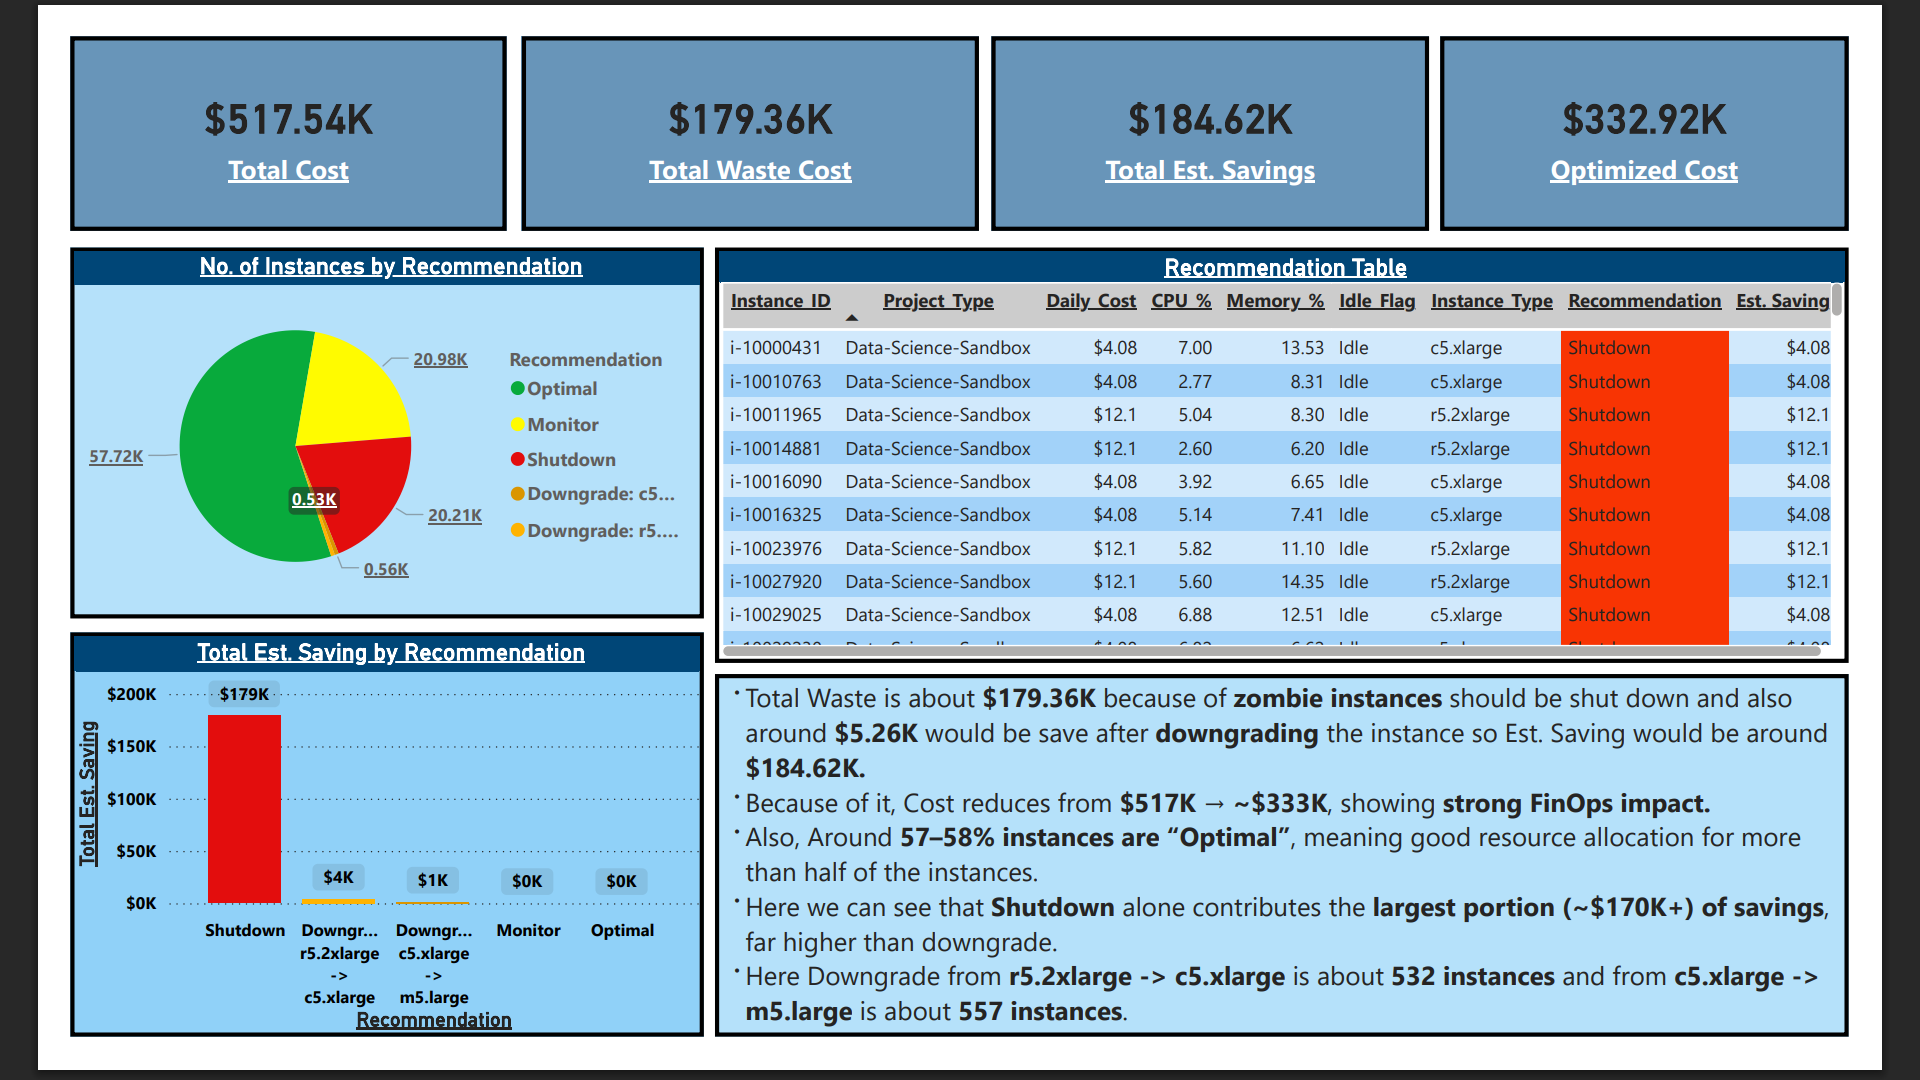

The dashboard page shown, as its layout file describes it:
{"tool":"powerbi","page":{"name":"Optimization & Savings","canvas":[1280,720],"ordinal":3},"visuals":[{"type":"card","fields":{"Values":["Cloud_FinOps_Logs.Total Cost"]},"box":[0,0,314,139.5],"z":0},{"type":"card","fields":{"Values":["Sum(Cloud_FinOps_Logs.Est. Saving)"]},"box":[662.8,0,315.1,139.5],"z":1000},{"type":"card","fields":{"Values":["Cloud_FinOps_Logs.Total Waste Cost"]},"box":[324.7,0,329.4,139.7],"z":2000},{"type":"card","fields":{"Values":["Cloud_FinOps_Logs.Optimized Cost"]},"box":[986,0,294.2,139.5],"z":3000},{"type":"pieChart","fields":{"Category":["Cloud_FinOps_Logs.Recommendation"],"Y":["CountNonNull(Cloud_FinOps_Logs.Instance_ID)"]},"box":[0,151.5,455.7,268],"z":4000},{"type":"columnChart","fields":{"Category":["Cloud_FinOps_Logs.Recommendation"],"Y":["Sum(Cloud_FinOps_Logs.Est. Saving)"]},"box":[0,428.5,455.7,291.7],"z":5000},{"type":"tableEx","title":"Recommendation Table","fields":{"Values":["Cloud_FinOps_Logs.Instance_ID","Cloud_FinOps_Logs.Project_Name","Cloud_FinOps_Logs.Daily_Cost_USD","Cloud_FinOps_Logs.CPU_Utilization_Pct","Cloud_FinOps_Logs.Memory_Utilization_Pct","Cloud_FinOps_Logs.Idle_Flag","Cloud_FinOps_Logs.Instance_Type","Cloud_FinOps_Logs.Recommendation","Cloud_FinOps_Logs.Est. Saving"]},"box":[463.6,151.5,816.3,299.6],"z":6000},{"type":"textbox","title":"I","box":[463.6,459,816.3,261.2],"z":7000}]}

Visuals, with their boxes in screenshot pixels (x1, y1, x2, y2), scaled from the page's 1280x720 canvas onto the 1920x1080 screenshot:
card - Cloud_FinOps_Logs.Total Cost: box(0, 0, 471, 209)
card - Sum(Cloud_FinOps_Logs.Est. Saving): box(994, 0, 1467, 209)
card - Cloud_FinOps_Logs.Total Waste Cost: box(487, 0, 981, 210)
card - Cloud_FinOps_Logs.Optimized Cost: box(1479, 0, 1919, 209)
pieChart - Cloud_FinOps_Logs.Recommendation x CountNonNull(Cloud_FinOps_Logs.Instance_ID): box(0, 227, 684, 629)
columnChart - Cloud_FinOps_Logs.Recommendation x Sum(Cloud_FinOps_Logs.Est. Saving): box(0, 643, 684, 1079)
"Recommendation Table" tableEx: box(695, 227, 1919, 677)
"I" textbox: box(695, 688, 1919, 1079)
